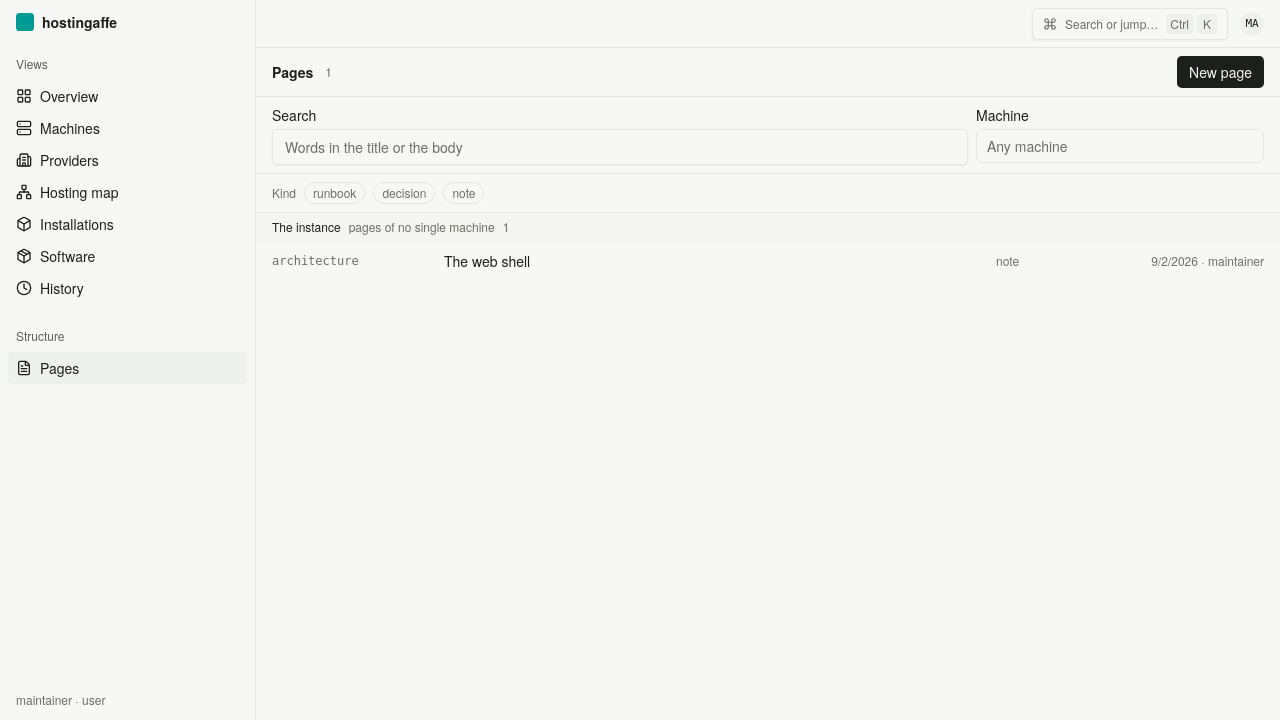
Test: the shell (ADR 0006) › offers the instance administration from the palette, to an administrator
Expected: the text "The web shell" is shown, x1=444 y1=251 x2=530 y2=271
Type keys "{Meta>}k{/Meta}"
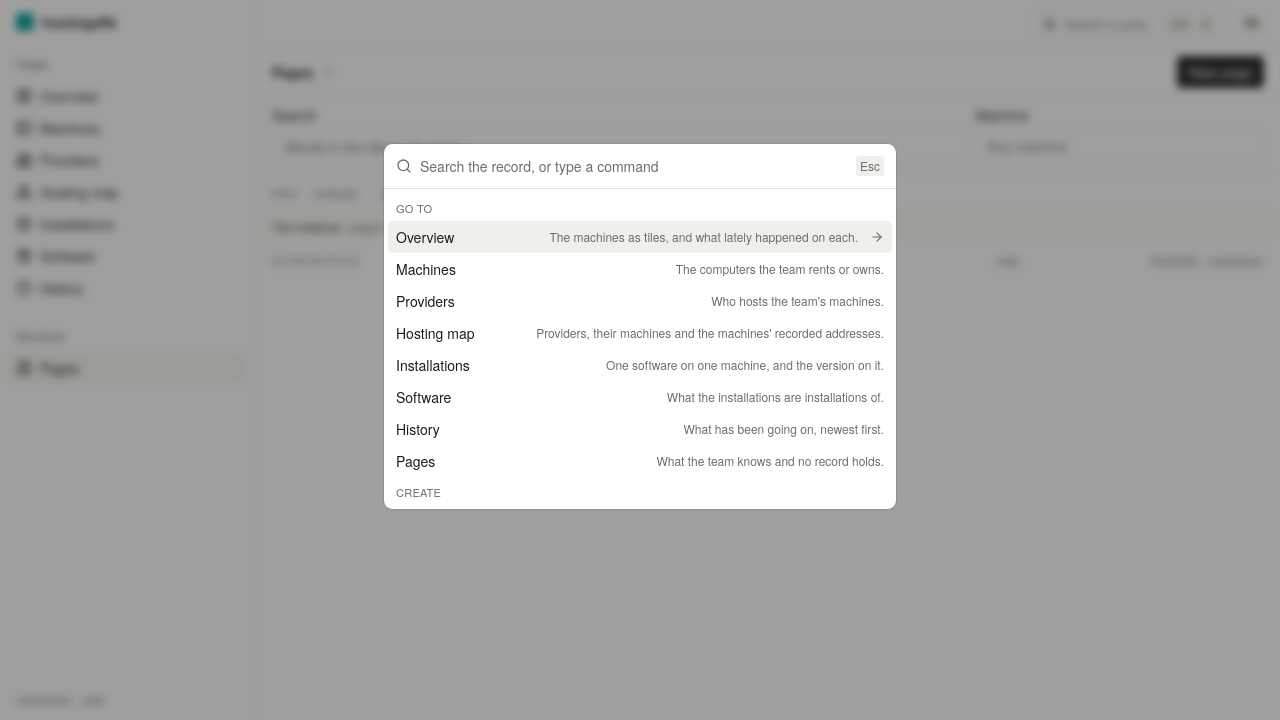
Type "administration" into the dropdown labelled "Search the record, or type a command" at (634,166), box x1=420 y1=144 x2=848 y2=188
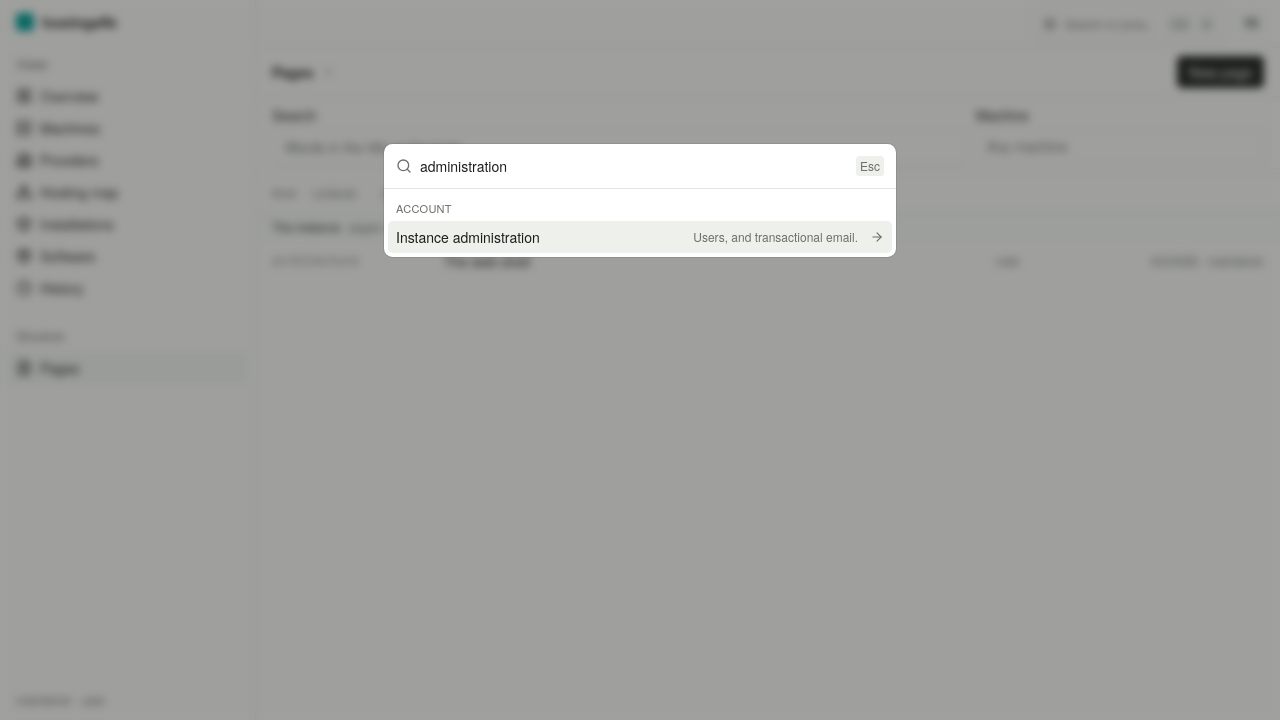
Click the option "Instance administration Users, and transactional email." at (468,237), box x1=388 y1=221 x2=892 y2=253
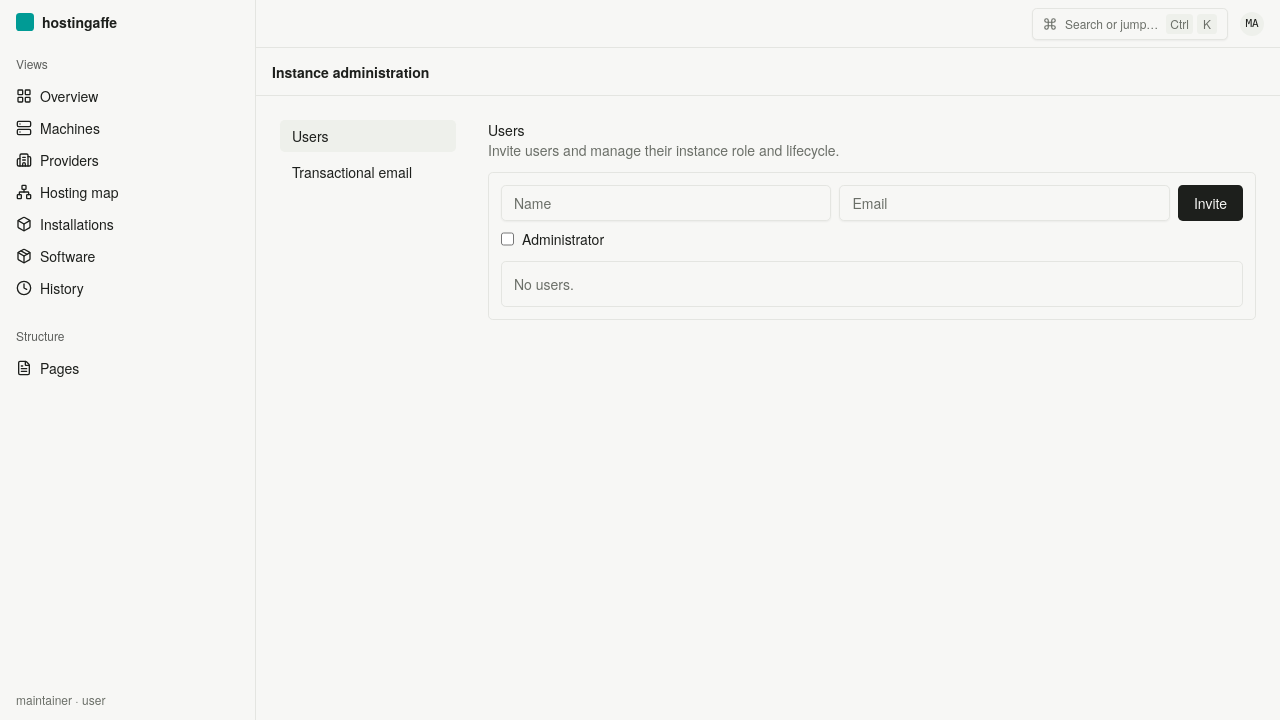
Now the heading "Instance administration" is shown, box x1=272 y1=62 x2=429 y2=82
